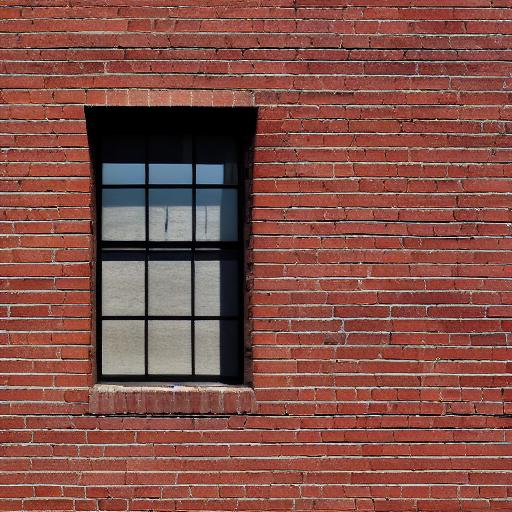Window: (90, 91, 261, 415)
